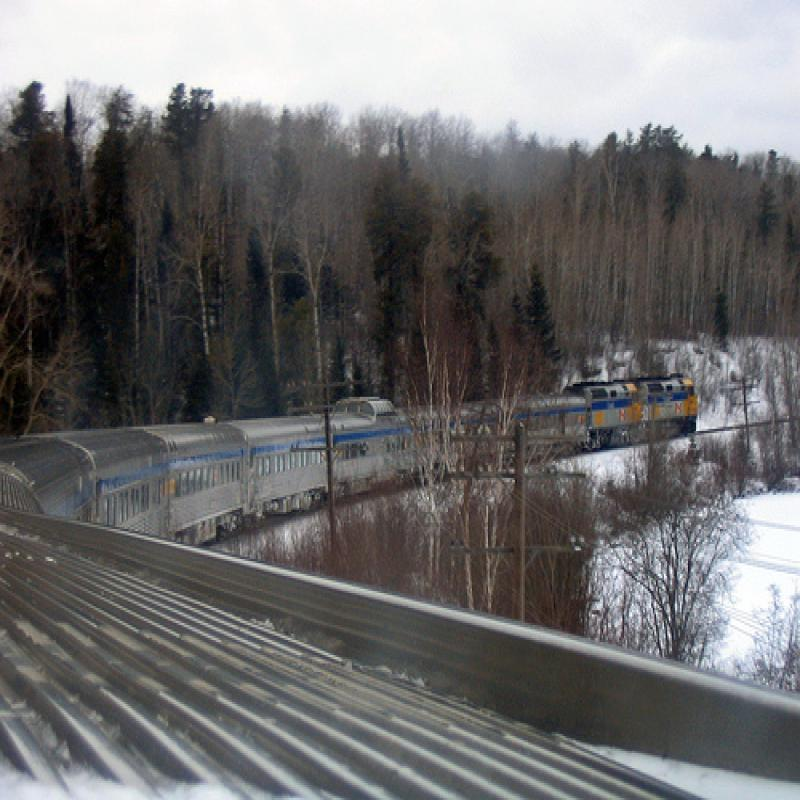train: (3, 368, 800, 799)
